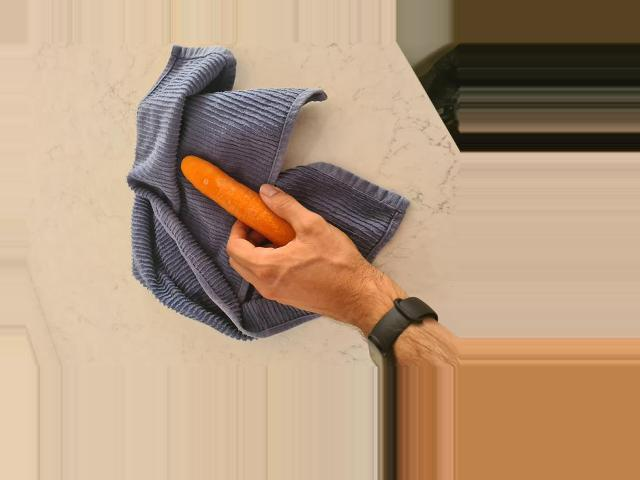carrot: (179, 152, 303, 244)
